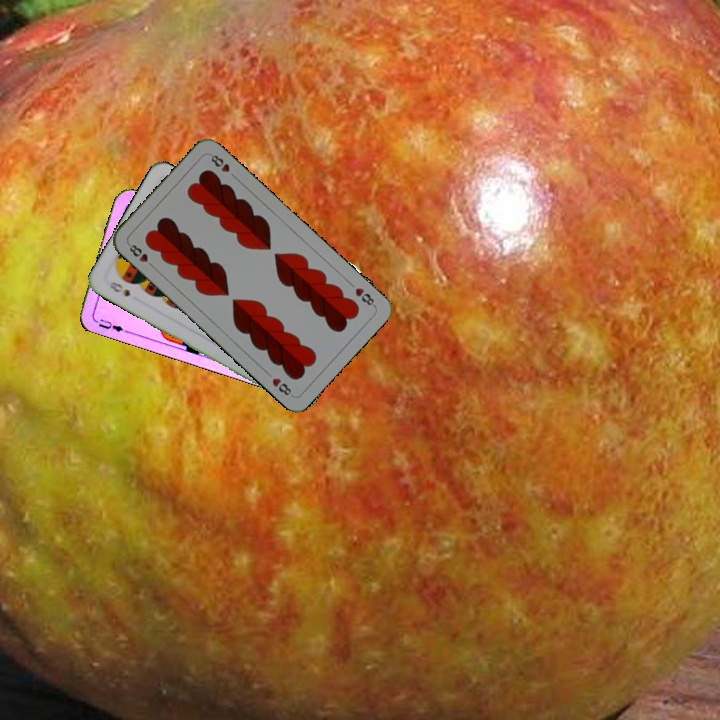EU: (90, 315, 130, 335)
H8: (124, 240, 157, 271), (351, 284, 378, 310)
S8: (105, 277, 133, 299)
